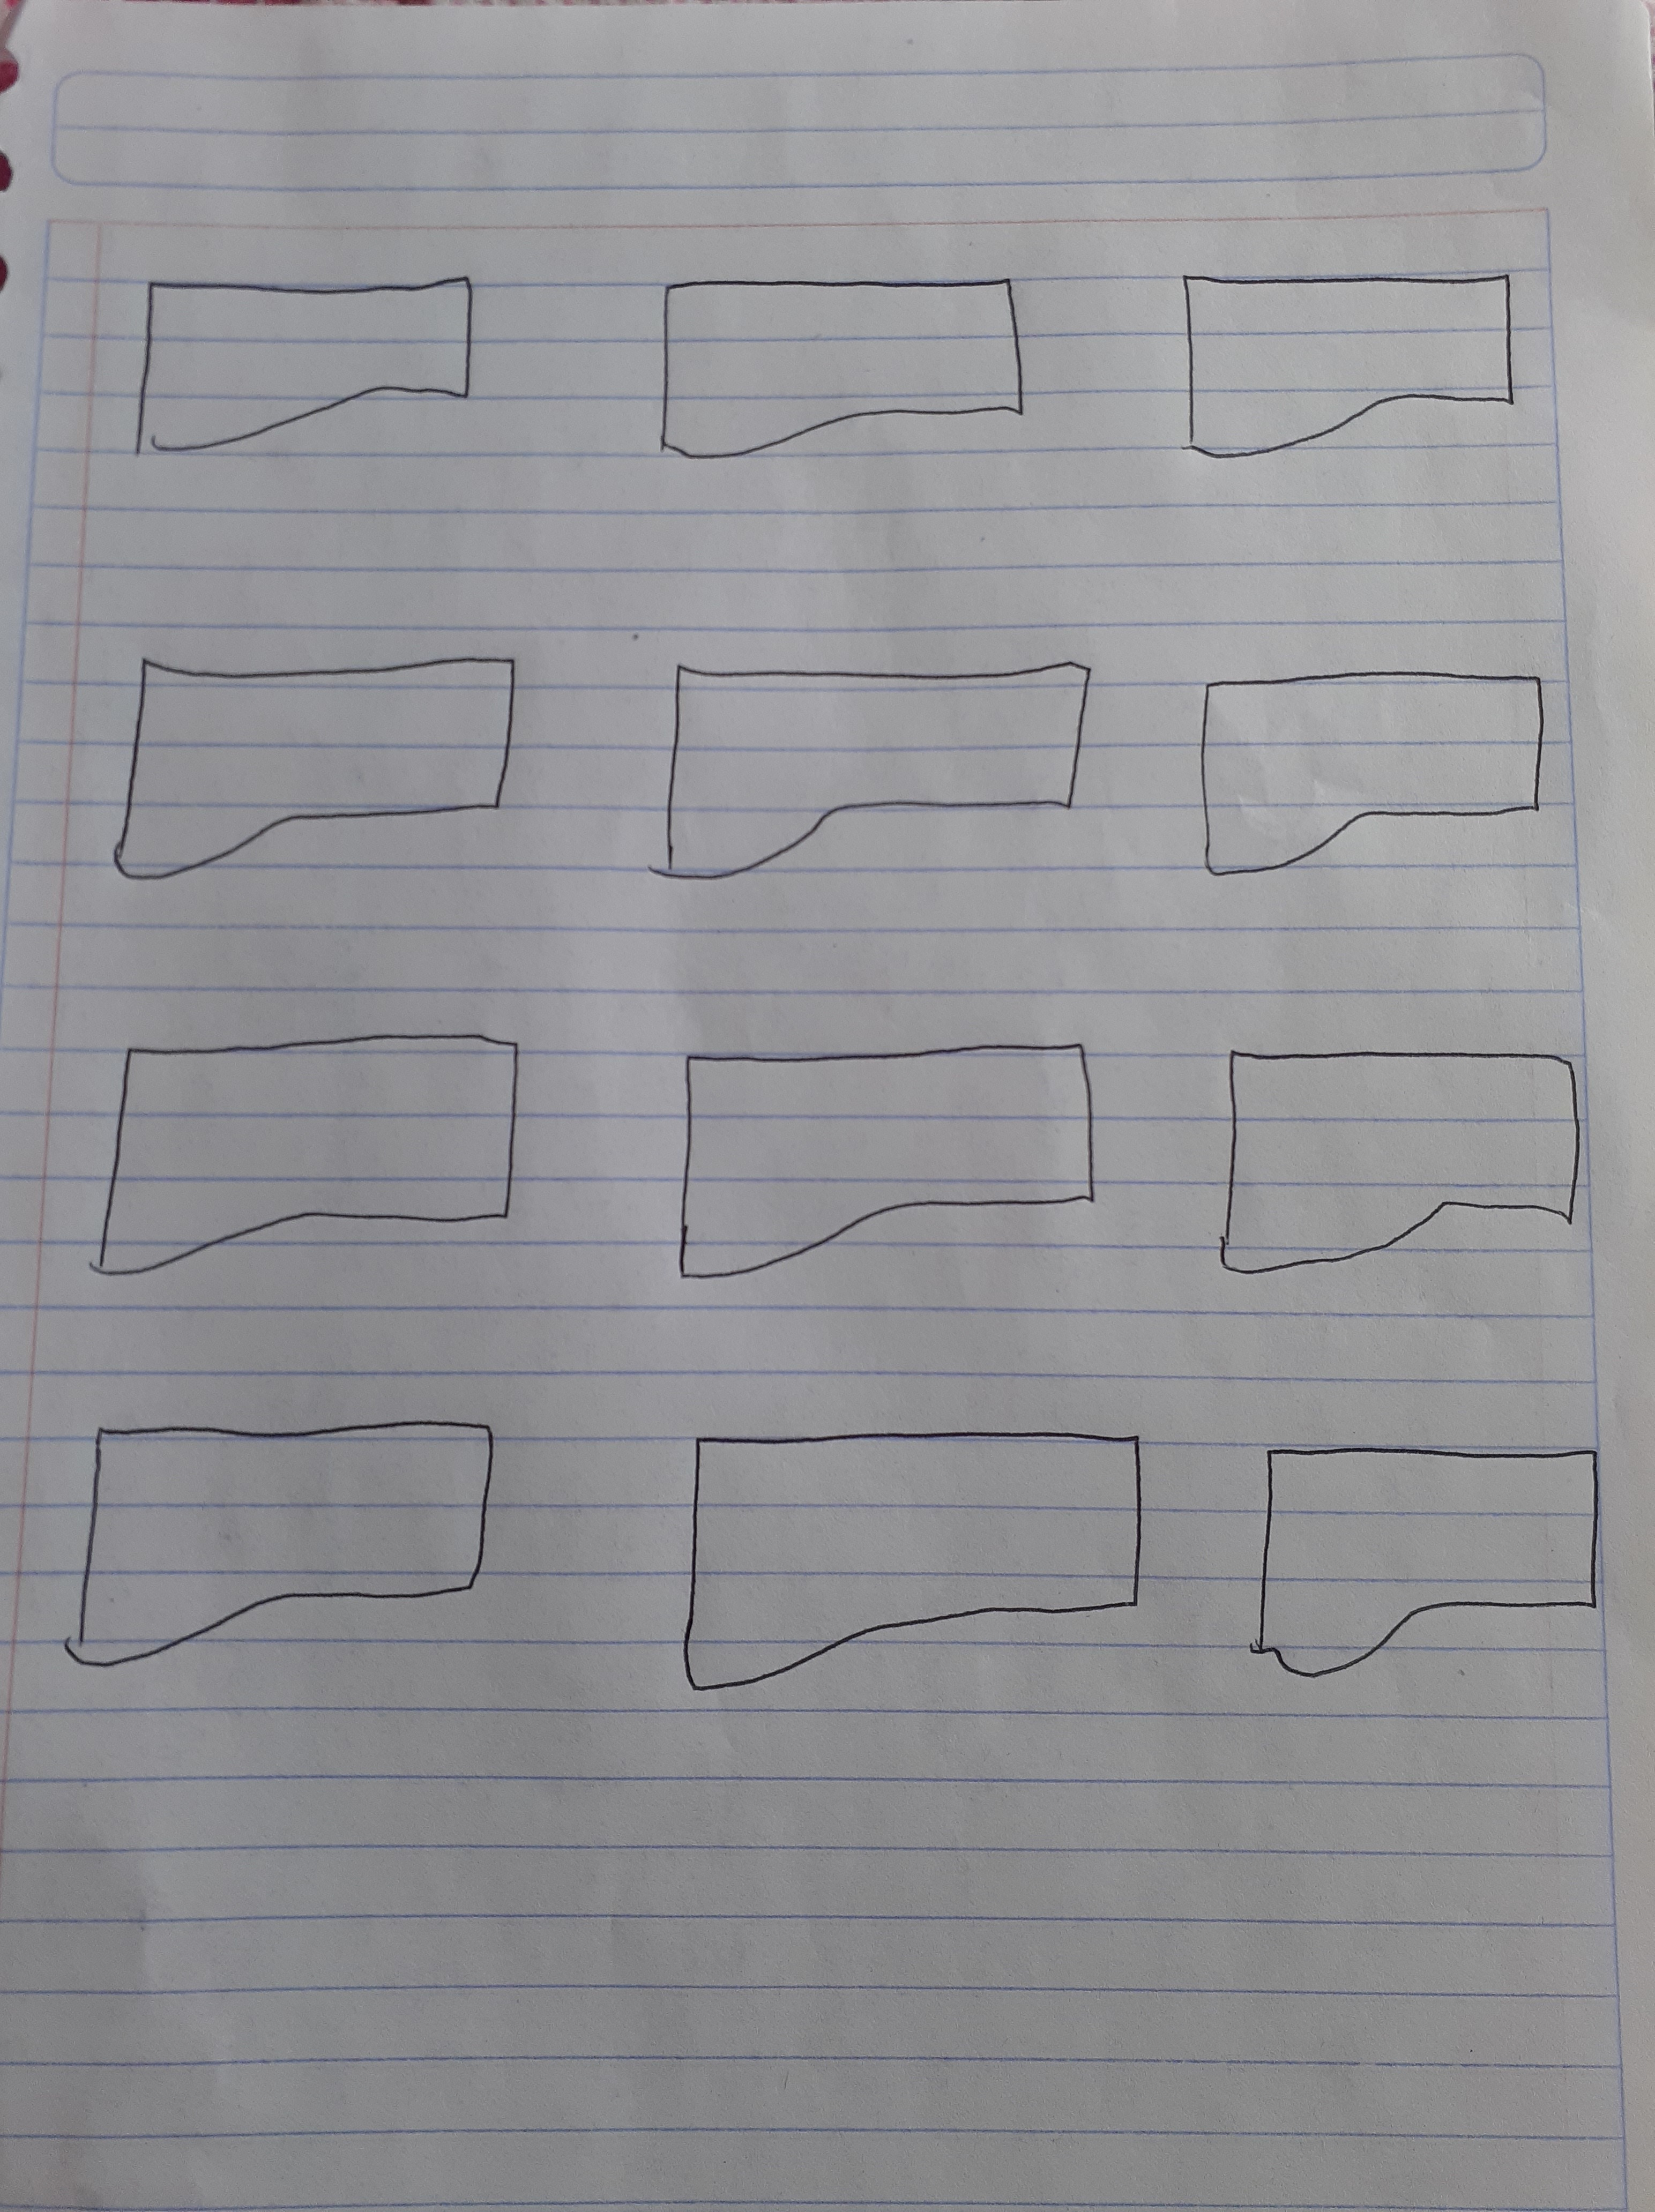print: (655, 1404, 1170, 1729), (71, 996, 551, 1321), (49, 1374, 511, 1701), (652, 1006, 1116, 1317), (617, 627, 1107, 919), (89, 606, 541, 921), (1184, 999, 1599, 1303), (659, 215, 1040, 533), (110, 222, 525, 509), (1137, 228, 1563, 506), (1231, 1414, 1620, 1699), (1191, 634, 1563, 895)
